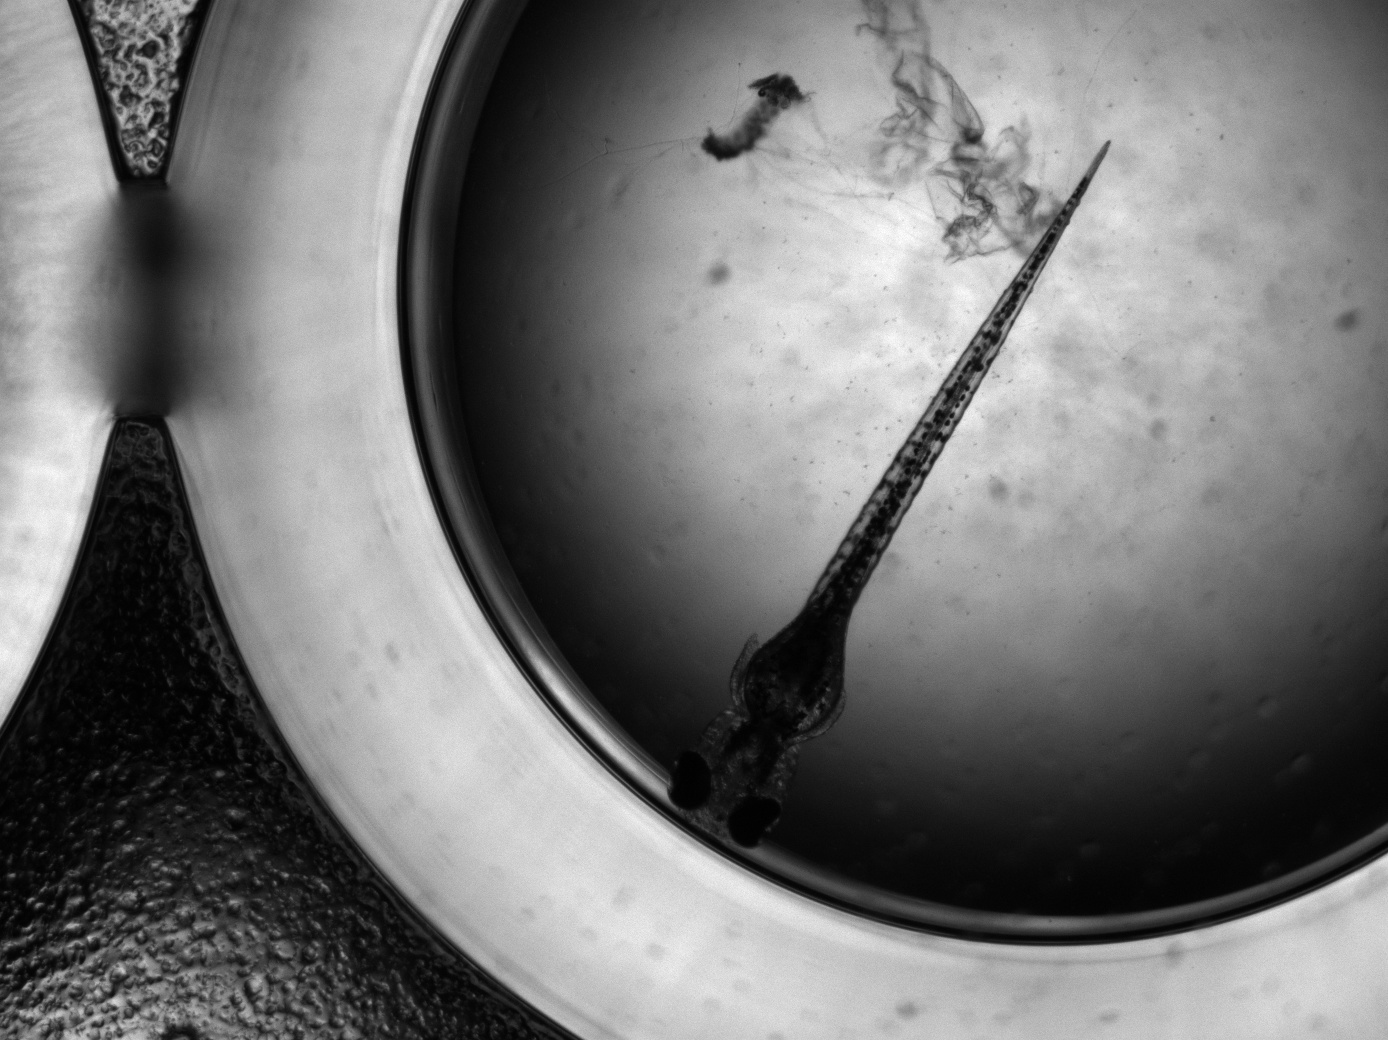debris: (847, 1, 1042, 260), (697, 72, 807, 161)
embryo: (667, 139, 1111, 850)
eye: (727, 795, 782, 848), (668, 751, 711, 809)
yolksac: (743, 630, 845, 735)
